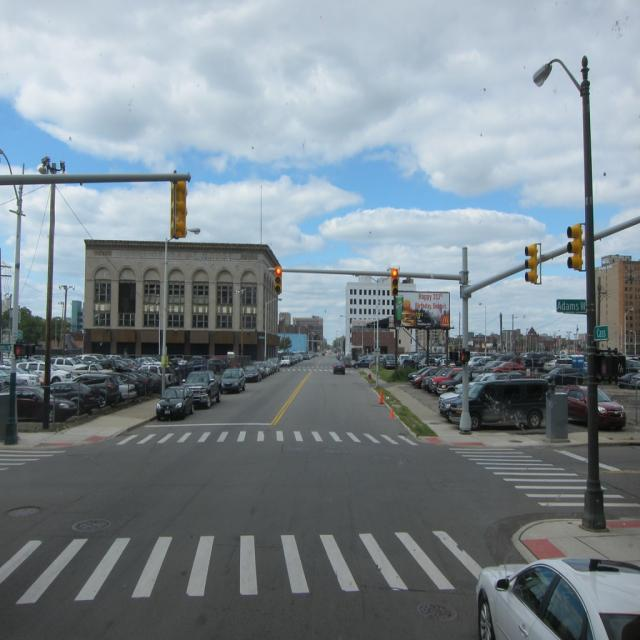off traffic light: (524, 243, 542, 284), (567, 225, 583, 271)
traffic light: (274, 266, 283, 292), (391, 269, 399, 295)
